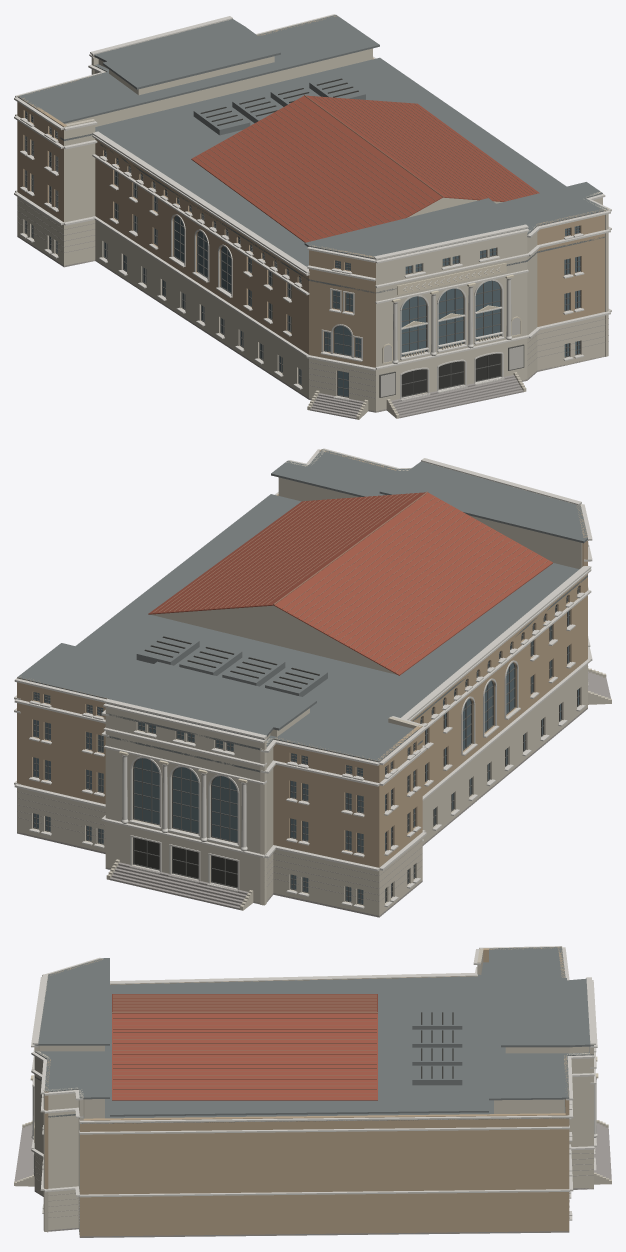
Rendered from huangpu-shanghai-concert-hall-raw.glb.
3 renders of one model, top to bottom at view 1: azimuth 30°, elevation 25°; view 2: azimuth 150°, elevation 25°; view 3: azimuth 270°, elevation 25°, orthographic. The views are drawn at different scales.
Visible parts, largest first — view 1: 迁建后的上海音乐厅（原南京大戏院）外部体量与入口; view 2: 迁建后的上海音乐厅（原南京大戏院）外部体量与入口; view 3: 迁建后的上海音乐厅（原南京大戏院）外部体量与入口.
Boxes of the visible parts, <box> form: 迁建后的上海音乐厅（原南京大戏院）外部体量与入口: <box>14,14,611,419</box>; 迁建后的上海音乐厅（原南京大戏院）外部体量与入口: <box>14,448,611,917</box>; 迁建后的上海音乐厅（原南京大戏院）外部体量与入口: <box>14,946,611,1237</box>.
Size of the model in its own units: 46.66 by 21.75 by 74.13.
